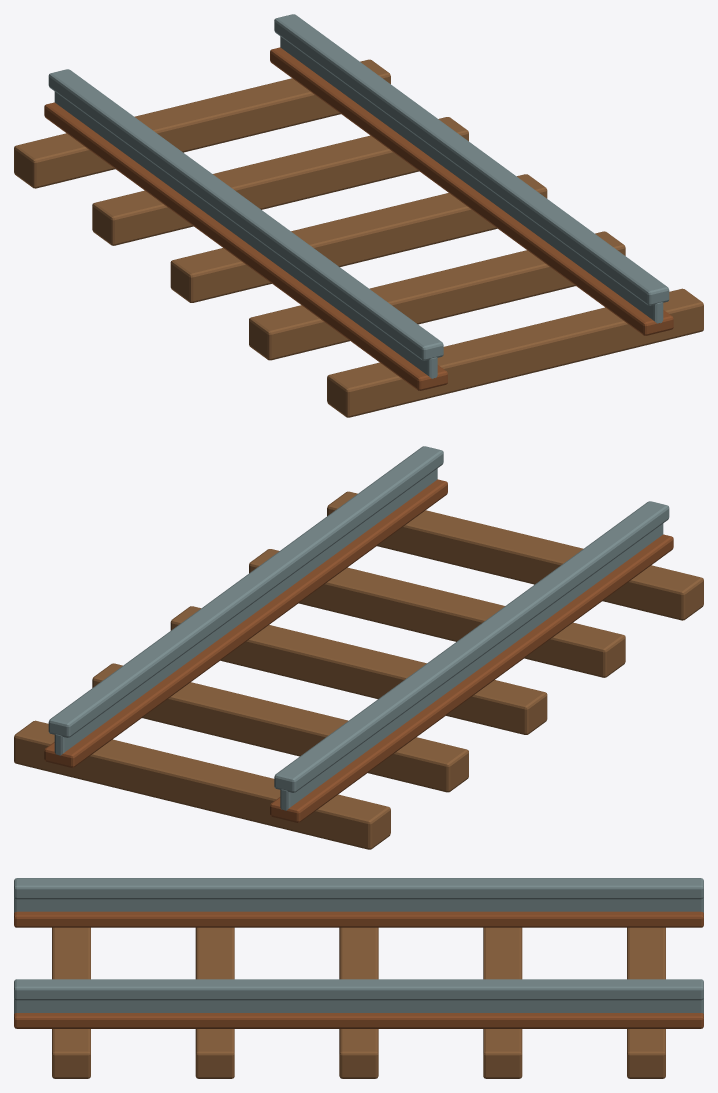
Rendered from SM_RailSegment_300.fbx.
3 views of the same model, one above another, from view 1: azimuth 30°, elevation 25°; view 2: azimuth 150°, elevation 25°; view 3: azimuth 270°, elevation 25° (orthographic). The views are drawn at different scales.
Parts seen in each view (by area): view 1: SM_RailSegment_300; view 2: SM_RailSegment_300; view 3: SM_RailSegment_300.
Part boxes in pixels (<box>): SM_RailSegment_300: <box>14,14,703,417</box>; SM_RailSegment_300: <box>14,446,703,849</box>; SM_RailSegment_300: <box>14,878,703,1078</box>.
Size of what is drawn, in the model's own units: 1.65 by 3 by 0.3225.
